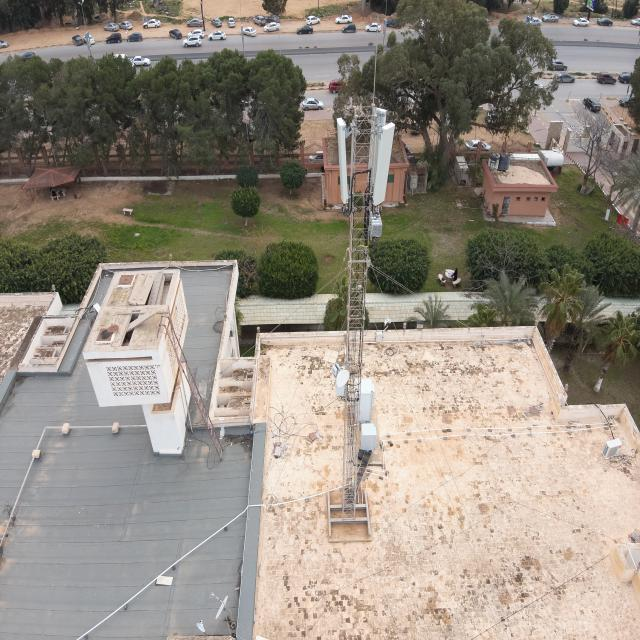antenna: (371, 122, 396, 206), (369, 108, 387, 182), (336, 117, 348, 205)
lighnig-rad: (372, 13, 380, 107)
microware-dish: (331, 361, 352, 388)
power-box: (336, 377, 345, 398)
radio-unit: (369, 208, 383, 238)
